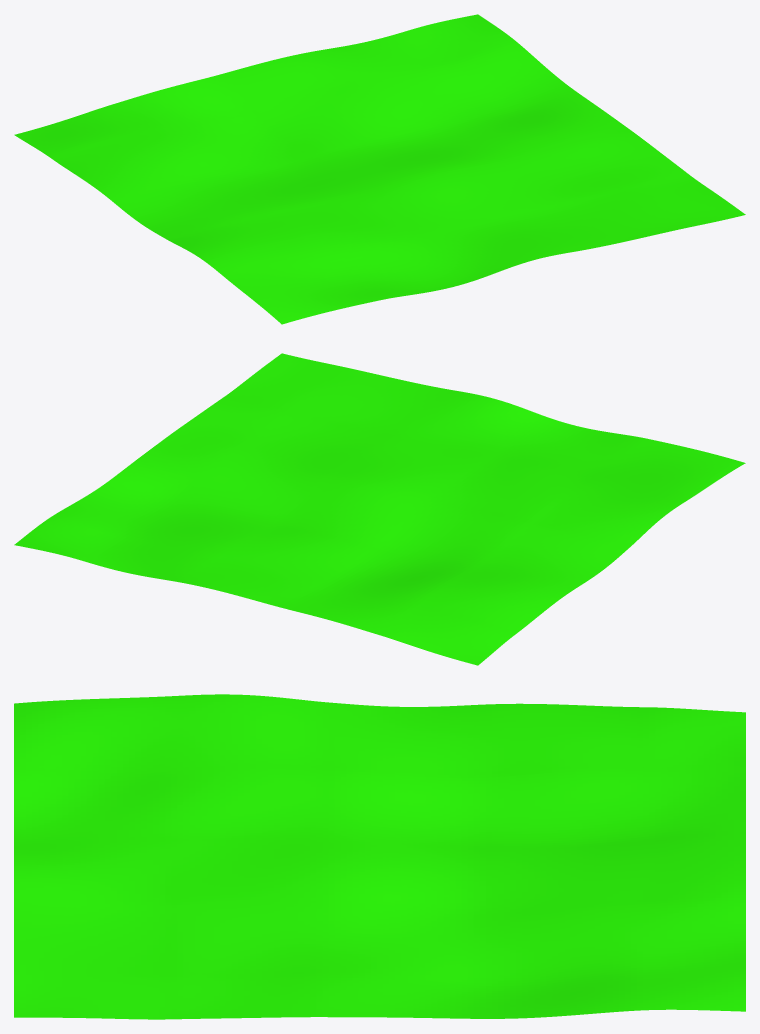
File: land.fbx
The picture shows the model from 3 angles, top to bottom: view 1: azimuth 30°, elevation 25°; view 2: azimuth 150°, elevation 25°; view 3: azimuth 270°, elevation 25°; orthographic projection. The views are drawn at different scales.
Parts seen in each view (by area): view 1: Plane; view 2: Plane; view 3: Plane.
Boxes of the visible parts, x1,y1,x2,y2 form: Plane: [14, 14, 745, 324]; Plane: [14, 353, 745, 665]; Plane: [14, 694, 745, 1019].
Bounding box in the file's own units: 26351 × 934 × 26351.
